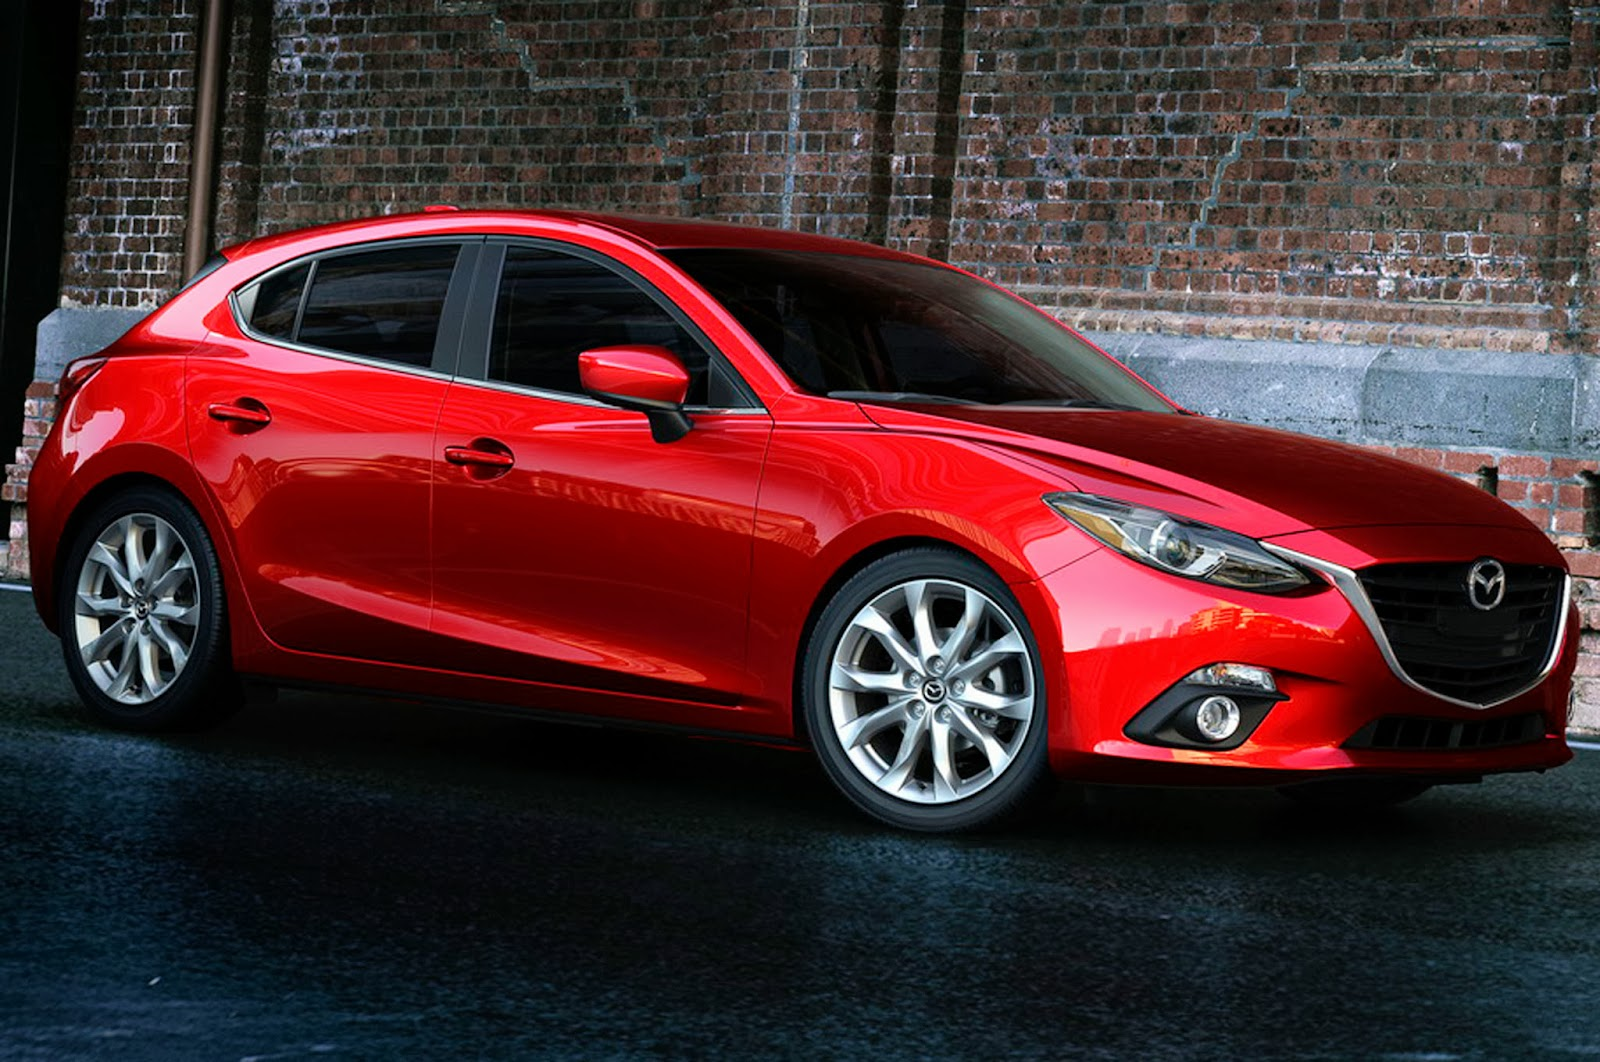Mazda3 Hatchback: (25, 197, 1582, 837)
